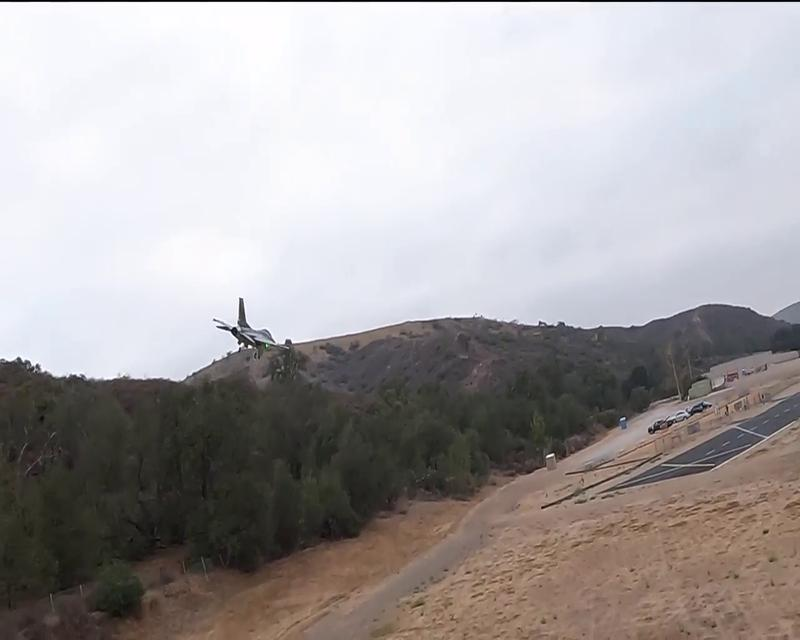UAV: (212, 296, 289, 360)
